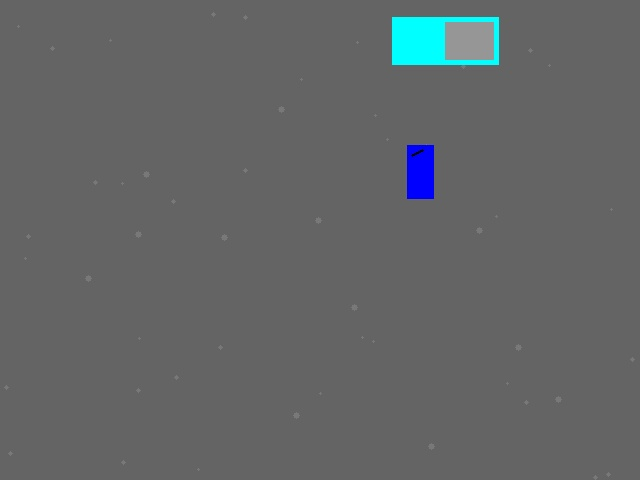motorcycle: (407, 145, 433, 198)
truck: (392, 17, 498, 64)
